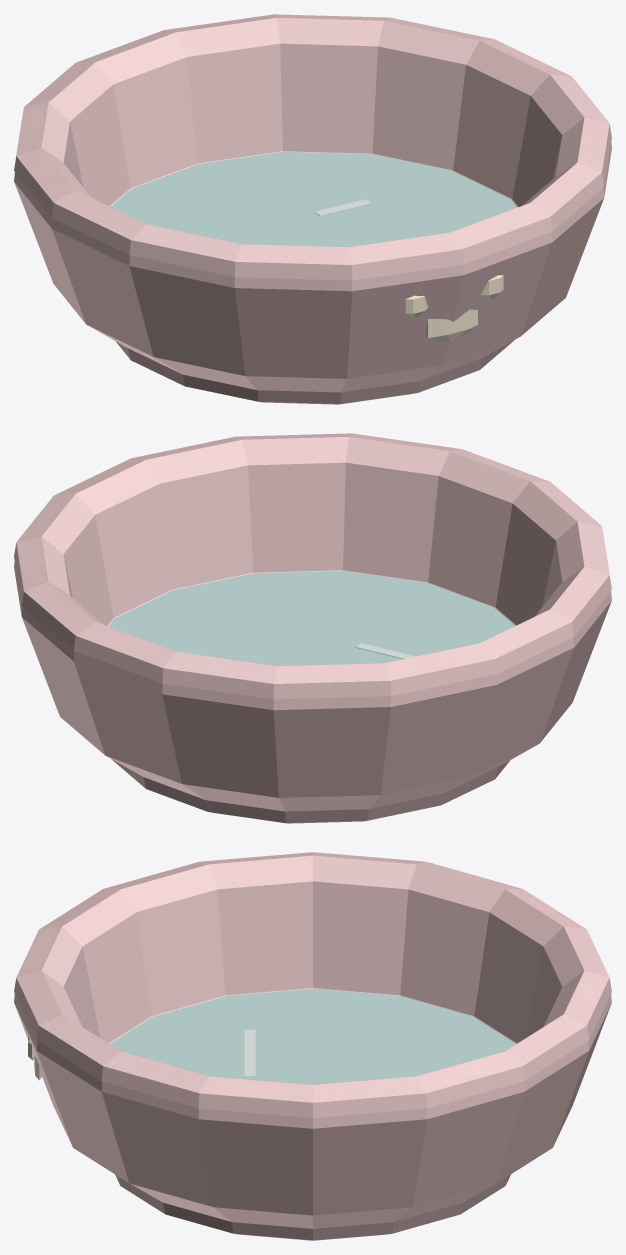
The model's file is crafted-cat-water-0-1.glb.
3 views of the same model, one above another, from view 1: azimuth 30°, elevation 25°; view 2: azimuth 150°, elevation 25°; view 3: azimuth 270°, elevation 25° (orthographic).
Visible parts, largest first — view 1: ceramic-bowl, water-level, glazed-rim, foot-ring, paw-pad; view 2: ceramic-bowl, water-level, glazed-rim, foot-ring; view 3: ceramic-bowl, water-level, glazed-rim, foot-ring, water-glint.
Part boxes in pixels (x1,y1,x2,y2): ceramic-bowl: (14,14,611,392); water-level: (111,152,517,247); glazed-rim: (14,14,611,280); foot-ring: (116,340,514,404); paw-pad: (426,309,477,343); ceramic-bowl: (14,433,611,811); water-level: (108,571,514,666); glazed-rim: (14,433,611,699); foot-ring: (111,759,509,823); ceramic-bowl: (14,852,611,1228); water-level: (109,988,516,1084); glazed-rim: (14,852,611,1117); foot-ring: (115,1174,510,1240); water-glint: (244,1029,255,1076).
Size of the model in its own units: 0.76 by 0.265 by 0.76.
